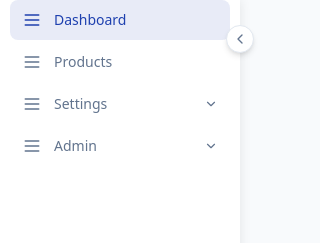
Test: Sidebar › toggles submenu when clicking dropdown item
Click the button "Settings".
click(120, 104)  # box [10,84,230,124]
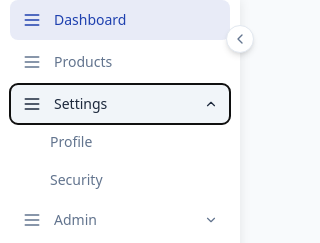
Result: the link "Profile" is shown at [50,132,92,151]
Result: the link "Security" is shown at [50,170,102,189]
